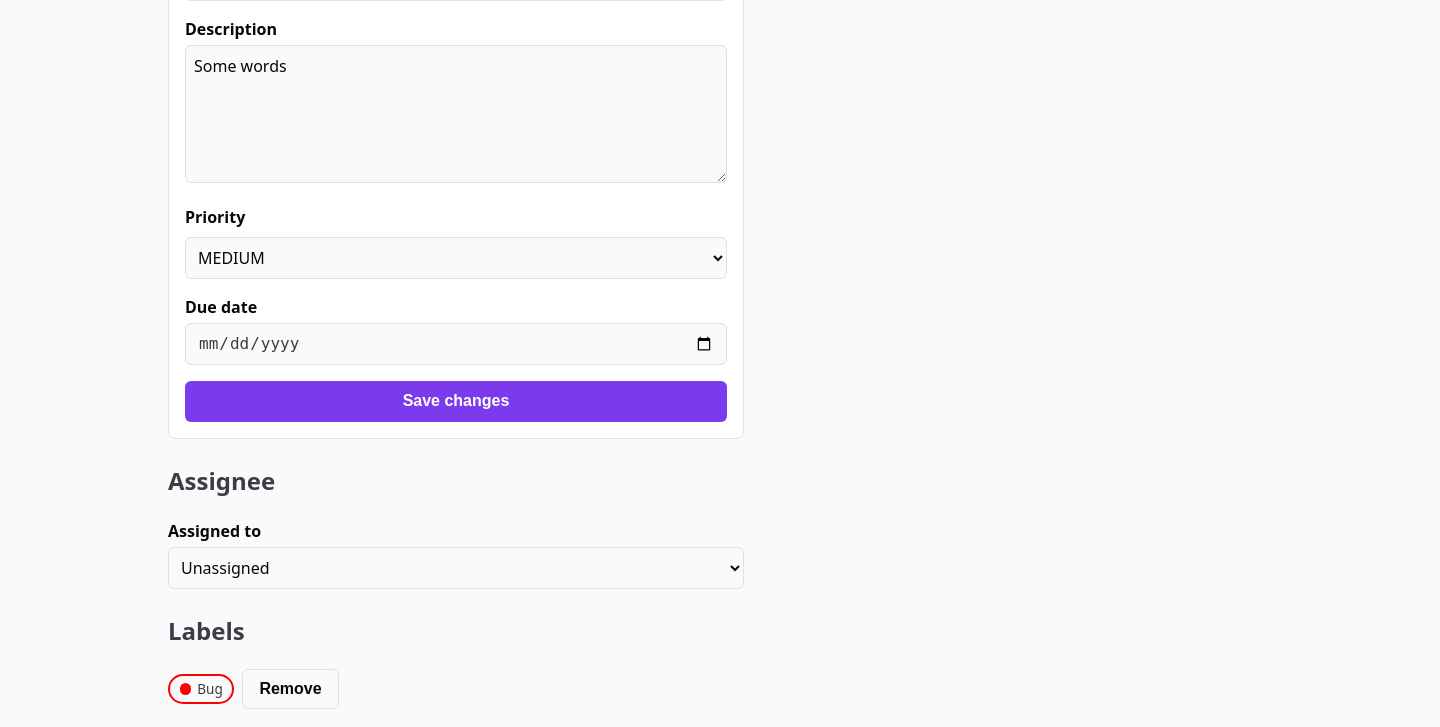
it: TaskDetailsPage › explains a version conflict and offers to reload
(page scrolled)
Click the button "Save changes".
click(456, 401)  # box [185,381,727,422]
(page scrolled)
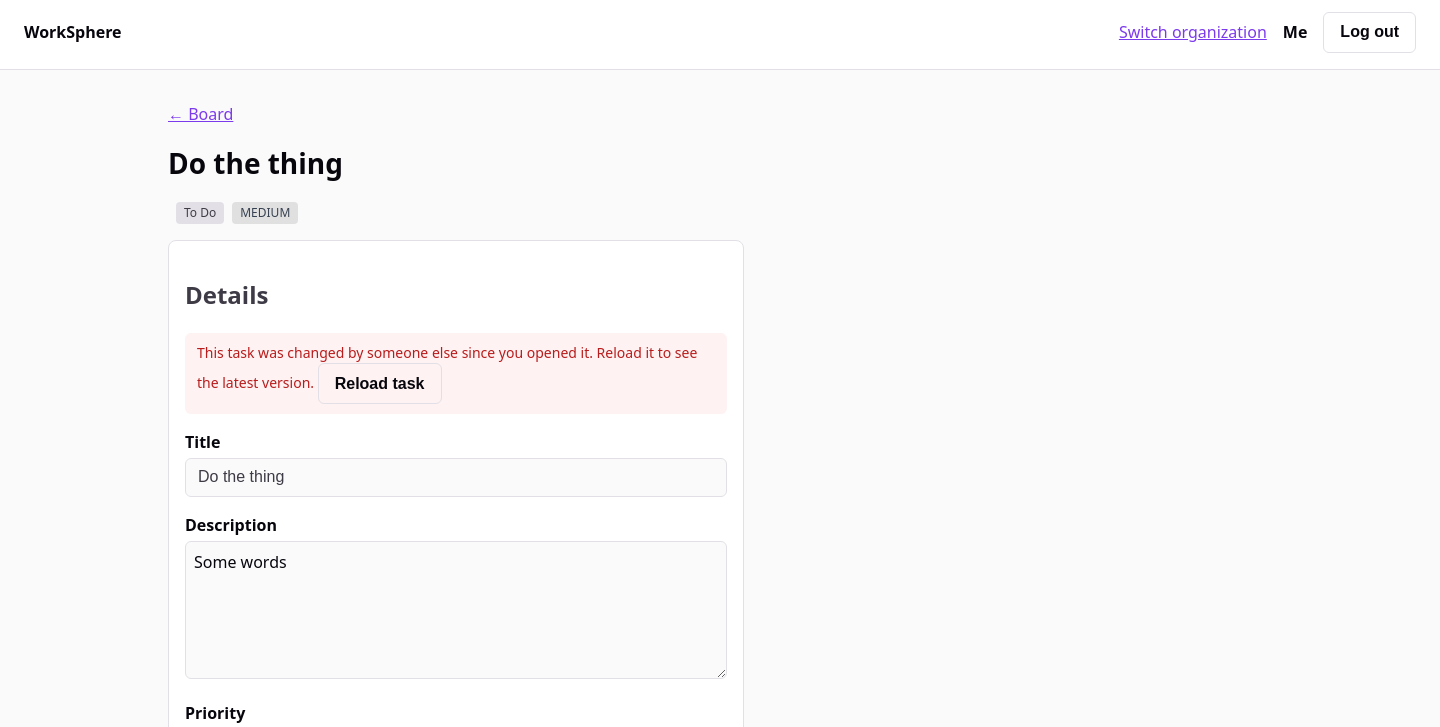
Result: the message shows "changed by someone else" at [197,343,697,393]
Result: the button "Reload task" is shown at [318,363,442,404]
